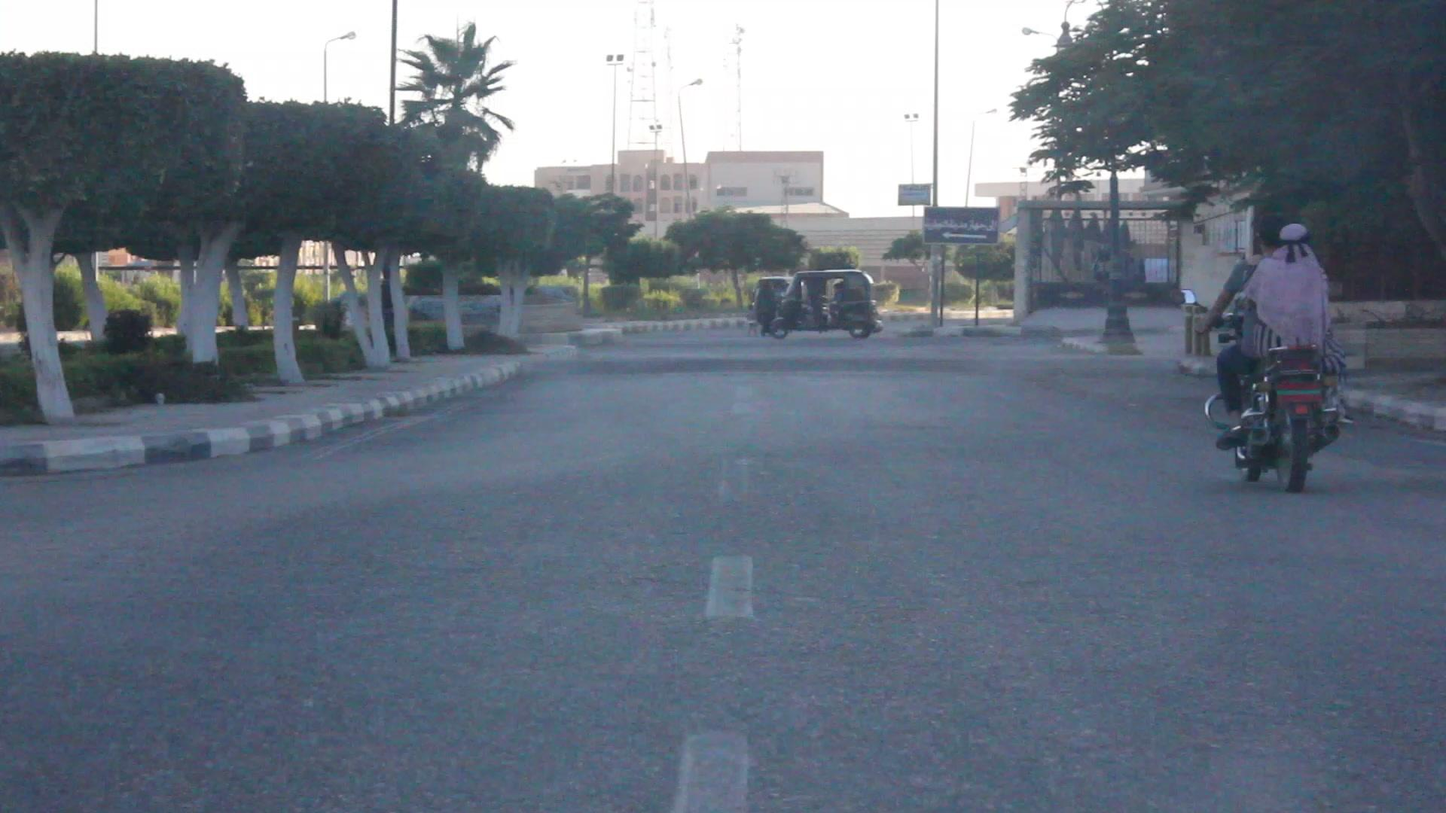Bump: (563, 346, 1052, 391)
